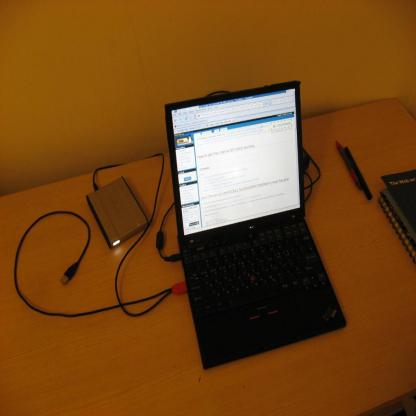board: (167, 80, 347, 368)
